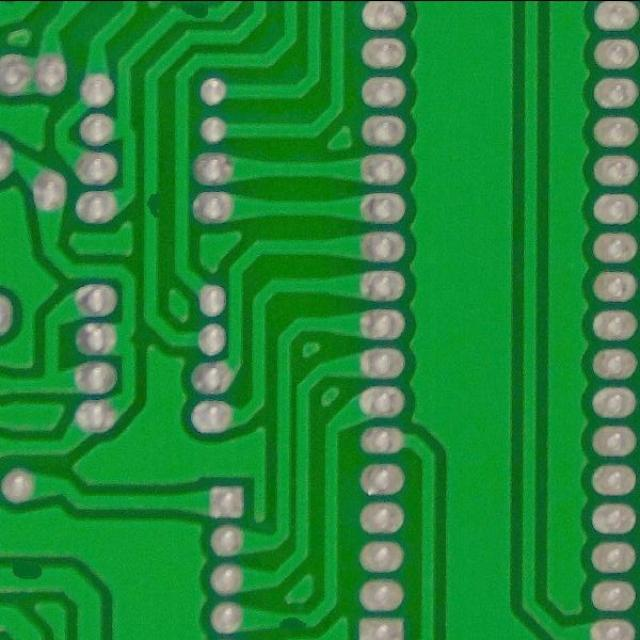MouseBite: (268, 606, 316, 636), (0, 558, 57, 582), (172, 1, 220, 26), (139, 183, 165, 224)
